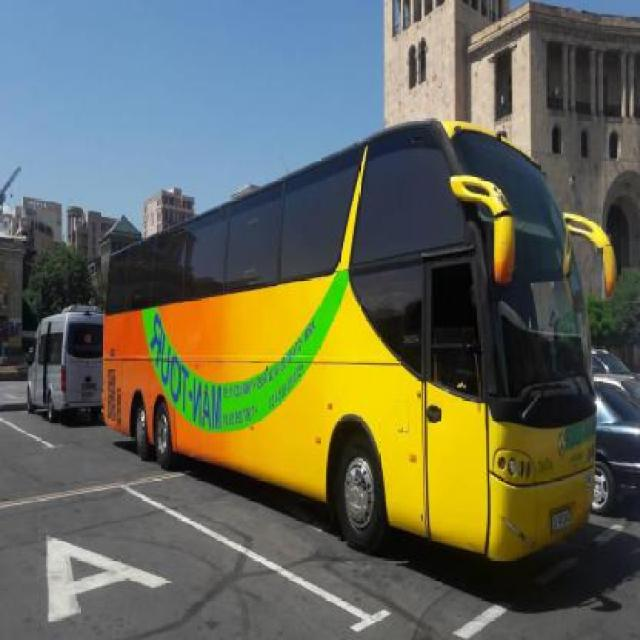bus: (100, 118, 619, 565)
